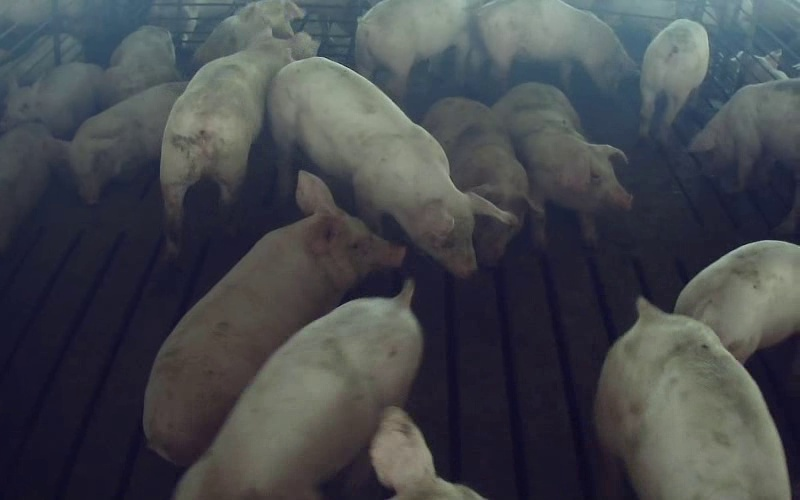pig: (143, 173, 404, 465), (176, 281, 422, 499), (268, 57, 512, 276), (595, 298, 789, 499), (160, 31, 317, 254), (422, 98, 532, 265), (674, 240, 799, 362), (475, 0, 636, 91), (68, 82, 186, 203), (355, 0, 474, 102), (690, 79, 799, 188), (640, 19, 708, 143), (3, 62, 102, 138), (103, 26, 179, 106)
